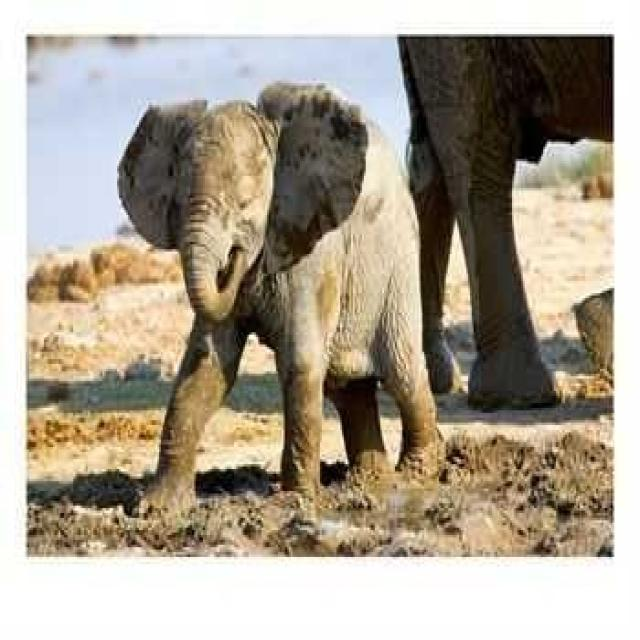Elephant: (116, 78, 444, 528), (395, 34, 613, 410)
